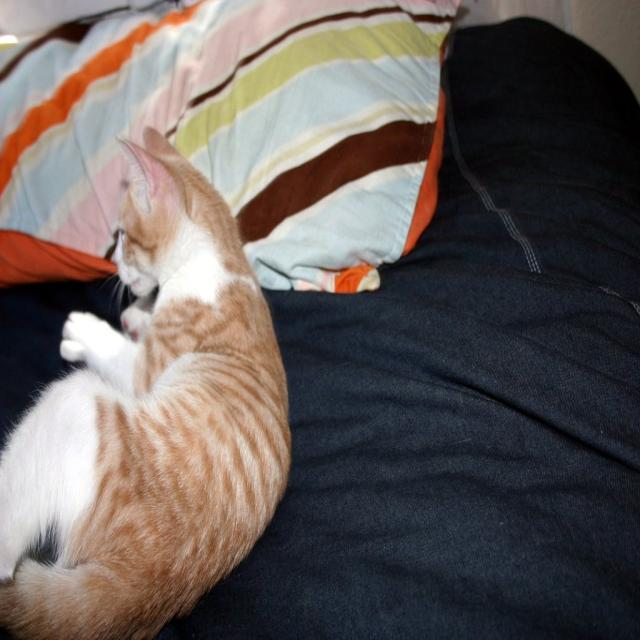Cat: (0, 132, 294, 637)
